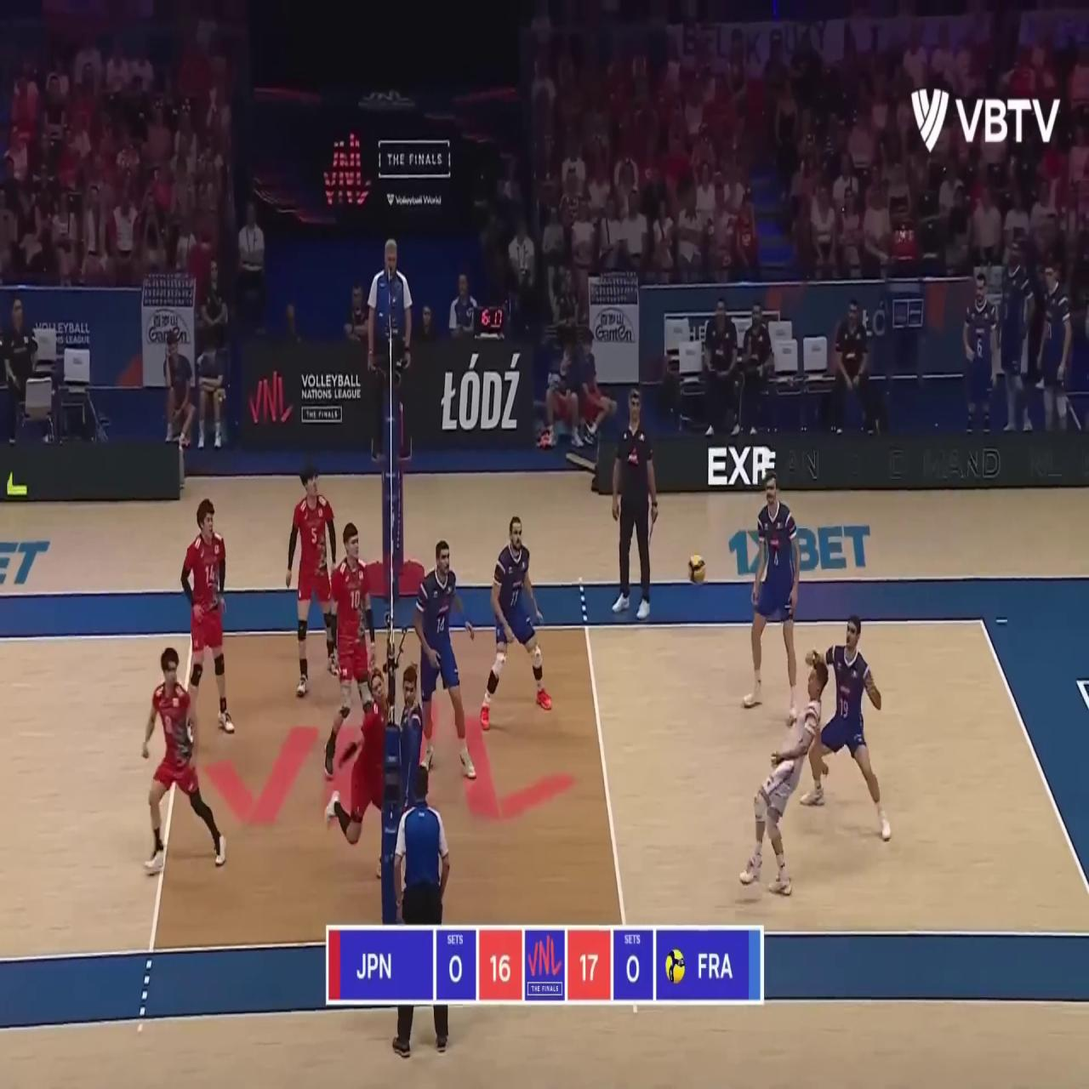ball: (689, 554, 706, 584)
